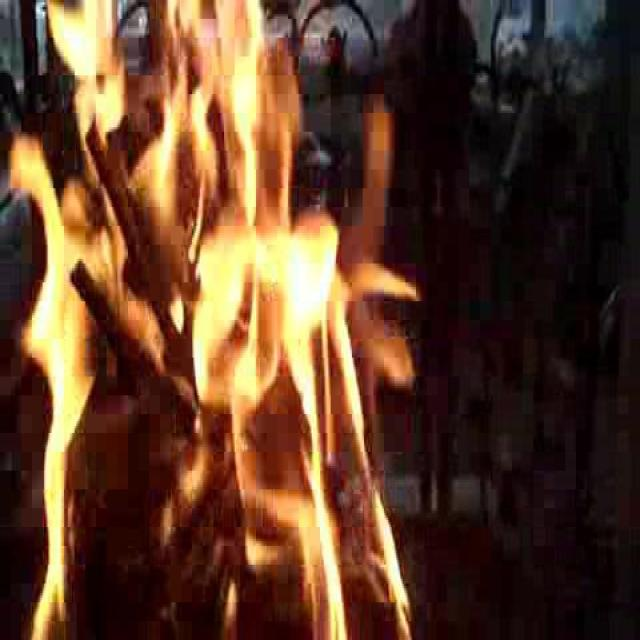fire: (0, 2, 416, 628)
